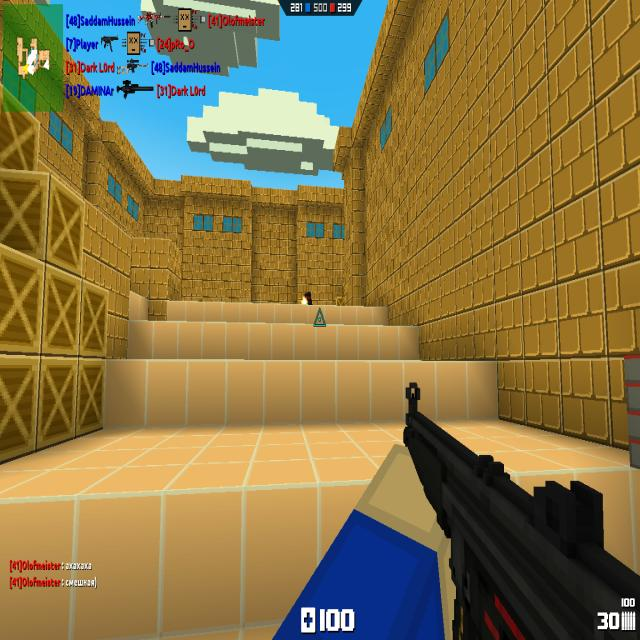enemy: (304, 291, 312, 305)
